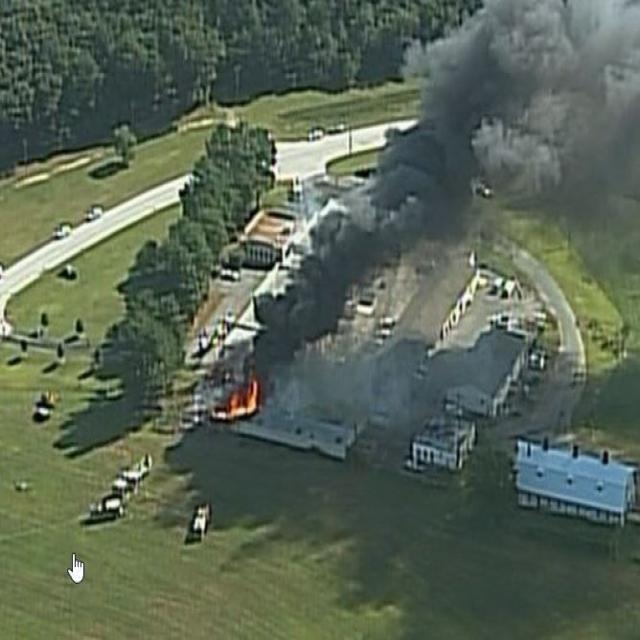Fire: (228, 372, 262, 421)
Smoke: (247, 32, 630, 372)
